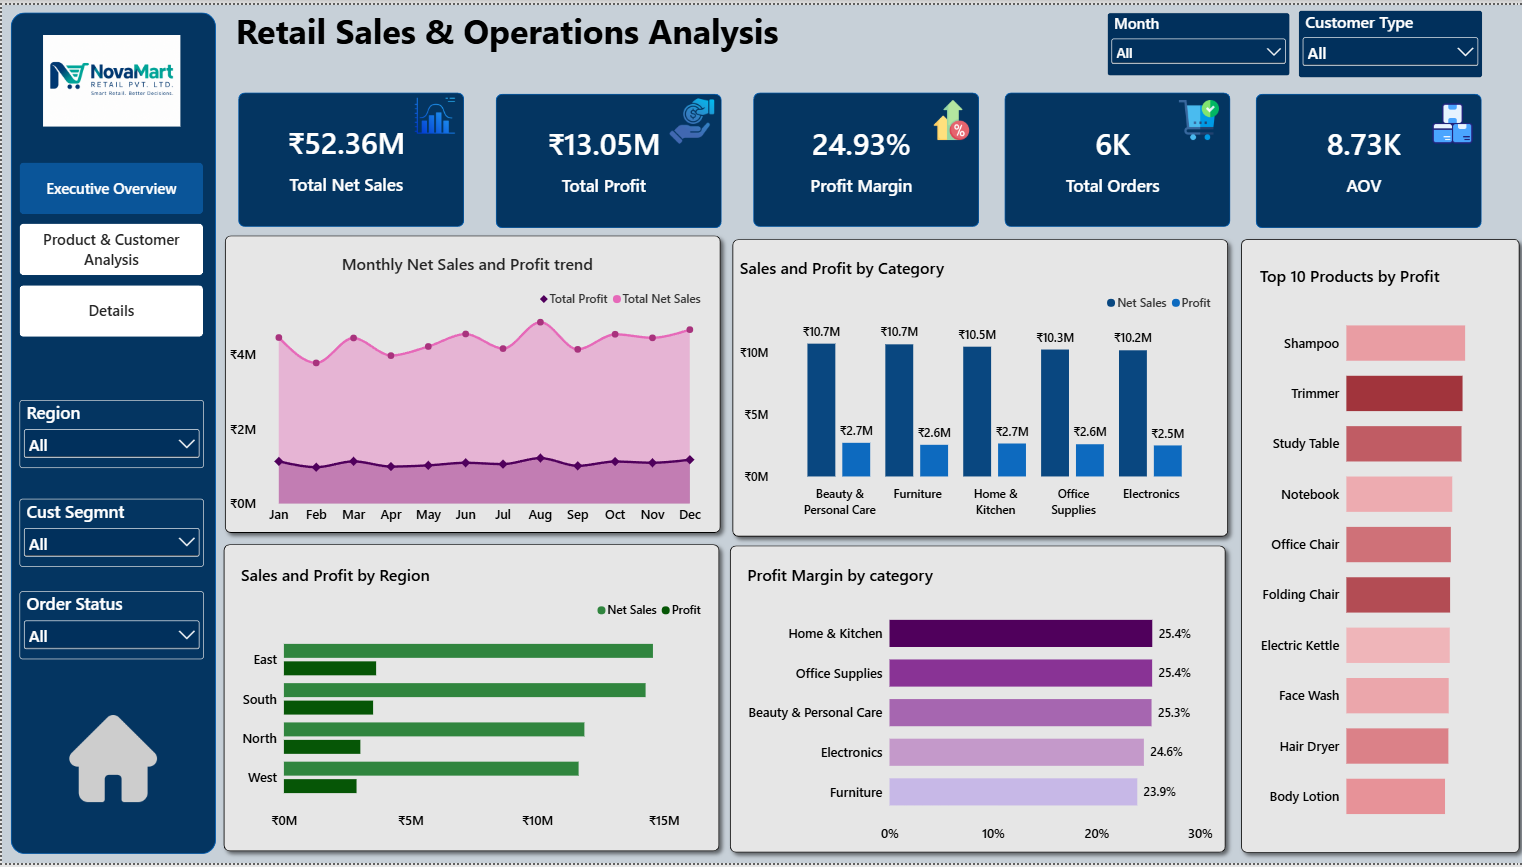

What the dashboard file says about the page in this screenshot:
{"tool":"powerbi","page":{"name":"Executive Overview","canvas":[1920,1080],"ordinal":0},"visuals":[{"type":"shape","box":[10.5,8.7,258.1,1058.7],"z":0},{"type":"shape","box":[296.5,110.6,284.3,169.2],"z":0,"group":"g1"},{"type":"shape","box":[620.9,112.3,284.3,169.2],"z":0,"group":"g3"},{"type":"shape","box":[270.4,280.6,643.6,394.2],"z":0,"group":"g2"},{"type":"shape","box":[908.7,283.9,643.6,394.2],"z":0,"group":"g4"},{"type":"shape","box":[268.8,667.9,643.6,406.4],"z":0,"group":"g7"},{"type":"shape","box":[905.4,669.7,643.6,406.4],"z":0,"group":"g9"},{"type":"textbox","box":[294.8,3.5,734.3,92.4],"z":1000},{"type":"cardVisual","fields":{"Data":["retail_clients.Total Net Sales"]},"box":[296.5,110.6,272.1,169.2],"z":1000,"group":"g1"},{"type":"clusteredColumnChart","title":"Sales and Profit by Category","fields":{"Category":["retail_clients.category"],"Y":["retail_clients.Total Net Sales","retail_clients.Total Profit"]},"box":[912.2,301.3,629.7,361],"z":1000,"group":"g4"},{"type":"barChart","fields":{"Category":["retail_clients.category"],"Y":["retail_clients.Profit Margin"]},"box":[921.1,688.9,617.4,385.5],"z":1000,"group":"g9"},{"type":"group","id":"g1","title":"Group 1","box":[296.5,110.6,284.3,169.2],"z":2000,"group":"g14"},{"type":"group","id":"g2","title":"Group 6","box":[270.4,280.6,643.6,394.2],"z":2000},{"type":"cardVisual","fields":{"Data":["retail_clients.Total Profit"]},"box":[620.9,112.3,272.1,169.2],"z":3000,"group":"g3"},{"type":"group","id":"g3","title":"Group 2","box":[620.9,112.3,284.3,169.2],"z":3000,"group":"g13"},{"type":"group","id":"g4","title":"Group 7","box":[908.7,283.9,643.6,394.2],"z":3000},{"type":"group","id":"g5","title":"Group 3","box":[945.4,110.6,284.3,170.9],"z":4000,"group":"g12"},{"type":"shape","box":[945.4,110.6,284.3,169.2],"z":4000,"group":"g5"},{"type":"shape","box":[1548.8,284.3,371.5,791.9],"z":4000,"group":"g15"},{"type":"group","id":"g6","title":"Group 4","box":[1261.9,110.5,284.3,170.9],"z":5000,"group":"g10"},{"type":"shape","box":[1261.9,110.5,284.3,169.2],"z":5000,"group":"g6"},{"type":"group","id":"g7","title":"Group 8","box":[268.8,667.9,643.6,406.4],"z":5000},{"type":"shape","box":[1576.7,112.3,284.3,169.2],"z":6000,"group":"g8"},{"type":"group","id":"g8","title":"Group 5","box":[1576.7,112.3,284.3,169.2],"z":6000,"group":"g11"},{"type":"group","id":"g9","title":"Group 9","box":[905.4,669.7,643.6,406.4],"z":6000},{"type":"barChart","title":"Top 10 Products by Profit","fields":{"Category":["retail_clients.product_name"],"Y":["retail_clients.Total Profit"]},"box":[1566.2,311.9,340.1,747],"z":7000,"group":"g15"},{"type":"cardVisual","fields":{"Data":["retail_clients.Profit Margin"]},"box":[945.4,112.3,272.1,169.2],"z":7001,"group":"g5"},{"type":"cardVisual","fields":{"Data":["retail_clients.Total Orders"]},"box":[1261.9,112.2,272.1,169.2],"z":7002,"group":"g6"},{"type":"cardVisual","fields":{"Data":["retail_clients.AOV"]},"box":[1576.7,112.3,272.1,169.2],"z":7003,"group":"g8"},{"type":"slicer","fields":{"Values":["retail_clients.customer_type"]},"box":[1630.8,7,232,85.5],"z":8000},{"type":"areaChart","title":"Monthly Net Sales and Profit trend","fields":{"Category":["Calender Date.Month Name"],"Y":["retail_clients.Total Profit","retail_clients.Total Net Sales"]},"box":[270.4,298,629.7,376.7],"z":8000,"group":"g2"},{"type":"clusteredBarChart","title":"Sales and Profit by Region","fields":{"Category":["retail_clients.region"],"Y":["retail_clients.Total Net Sales","retail_clients.Total Profit"]},"box":[284.5,688.8,615.7,369.8],"z":8005,"group":"g7"},{"type":"slicer","fields":{"Values":["retail_clients.region"]},"box":[22.7,497.1,232,85.5],"z":9000},{"type":"slicer","fields":{"Values":["retail_clients.cust_segmnt"]},"box":[22.7,620.9,232,85.5],"z":10000},{"type":"slicer","fields":{"Values":["retail_clients.order_status"]},"box":[22.7,737.8,232,85.5],"z":11000},{"type":"slicer","fields":{"Values":["Calender Date.Month Name"]},"box":[1390.1,8.7,230.2,80.2],"z":12000},{"type":"image","box":[22.7,38.4,232,115.1],"z":13000},{"type":"image","box":[54.1,893,172.7,109.9],"z":14000},{"type":"group","id":"g10","title":"Group 10","box":[1261.9,110.5,284.3,170.9],"z":15000},{"type":"group","id":"g11","title":"Group 11","box":[1576.7,112.3,286,169.2],"z":16000},{"type":"group","id":"g12","title":"Group 12","box":[945.4,110.6,286,170.9],"z":17000},{"type":"group","id":"g13","title":"Group 13","box":[620.9,112.3,284.3,169.2],"z":18000},{"type":"group","id":"g14","title":"Group 14","box":[296.5,110.6,284.3,169.2],"z":19000},{"type":"image","box":[512.8,114.1,61,52.3],"z":20000,"group":"g14"},{"type":"pageNavigator","box":[22.7,198.8,232,221.5],"z":20000},{"type":"group","id":"g15","title":"Group 15","box":[1548.8,284.3,371.5,791.9],"z":20001},{"type":"image","box":[835.9,117.5,62.8,59.3],"z":21000,"group":"g13"},{"type":"image","box":[1167.8,119.3,55.8,50.6],"z":22000,"group":"g12"},{"type":"image","box":[1479.5,119.2,55.8,50.6],"z":23000,"group":"g10"},{"type":"image","box":[1786,121,76.7,55.8],"z":24000,"group":"g11"}]}

Visuals, with their boxes in screenshot pixels (x1, y1, x2, y2), scaled from the page's 1920x1080 canvas onto the 1522x867 screenshot:
shape: Rect(8, 7, 213, 857)
shape: Rect(235, 89, 460, 225)
shape: Rect(492, 90, 718, 226)
shape: Rect(214, 225, 725, 542)
shape: Rect(720, 228, 1231, 544)
shape: Rect(213, 536, 723, 862)
shape: Rect(718, 538, 1228, 864)
textbox: Rect(234, 3, 816, 77)
cardVisual - retail_clients.Total Net Sales: Rect(235, 89, 451, 225)
"Sales and Profit by Category" clusteredColumnChart: Rect(723, 242, 1222, 532)
barChart - retail_clients.category x retail_clients.Profit Margin: Rect(730, 553, 1220, 863)
"Group 1" group: Rect(235, 89, 460, 225)
"Group 6" group: Rect(214, 225, 725, 542)
cardVisual - retail_clients.Total Profit: Rect(492, 90, 708, 226)
"Group 2" group: Rect(492, 90, 718, 226)
"Group 7" group: Rect(720, 228, 1231, 544)
"Group 3" group: Rect(749, 89, 975, 226)
shape: Rect(749, 89, 975, 225)
shape: Rect(1228, 228, 1521, 864)
"Group 4" group: Rect(1000, 89, 1226, 226)
shape: Rect(1000, 89, 1226, 225)
"Group 8" group: Rect(213, 536, 723, 862)
shape: Rect(1250, 90, 1475, 226)
"Group 5" group: Rect(1250, 90, 1475, 226)
"Group 9" group: Rect(718, 538, 1228, 864)
"Top 10 Products by Profit" barChart: Rect(1242, 250, 1511, 850)
cardVisual - retail_clients.Profit Margin: Rect(749, 90, 965, 226)
cardVisual - retail_clients.Total Orders: Rect(1000, 90, 1216, 226)
cardVisual - retail_clients.AOV: Rect(1250, 90, 1466, 226)
slicer - retail_clients.customer_type: Rect(1293, 6, 1477, 74)
"Monthly Net Sales and Profit trend" areaChart: Rect(214, 239, 714, 542)
"Sales and Profit by Region" clusteredBarChart: Rect(226, 553, 714, 850)
slicer - retail_clients.region: Rect(18, 399, 202, 468)
slicer - retail_clients.cust_segmnt: Rect(18, 498, 202, 567)
slicer - retail_clients.order_status: Rect(18, 592, 202, 661)
slicer - Calender Date.Month Name: Rect(1102, 7, 1284, 71)
image: Rect(18, 31, 202, 123)
image: Rect(43, 717, 180, 805)
"Group 10" group: Rect(1000, 89, 1226, 226)
"Group 11" group: Rect(1250, 90, 1477, 226)
"Group 12" group: Rect(749, 89, 976, 226)
"Group 13" group: Rect(492, 90, 718, 226)
"Group 14" group: Rect(235, 89, 460, 225)
image: Rect(407, 92, 455, 134)
pageNavigator: Rect(18, 160, 202, 337)
"Group 15" group: Rect(1228, 228, 1521, 864)
image: Rect(663, 94, 712, 142)
image: Rect(926, 96, 970, 136)
image: Rect(1173, 96, 1217, 136)
image: Rect(1416, 97, 1477, 142)
